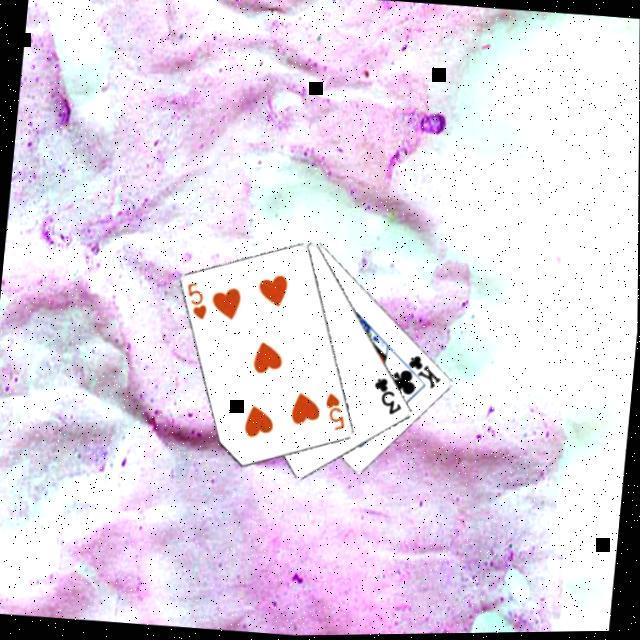3C: (368, 373, 406, 418)
5H: (319, 388, 349, 432), (180, 277, 210, 321)
KC: (395, 349, 444, 392)
